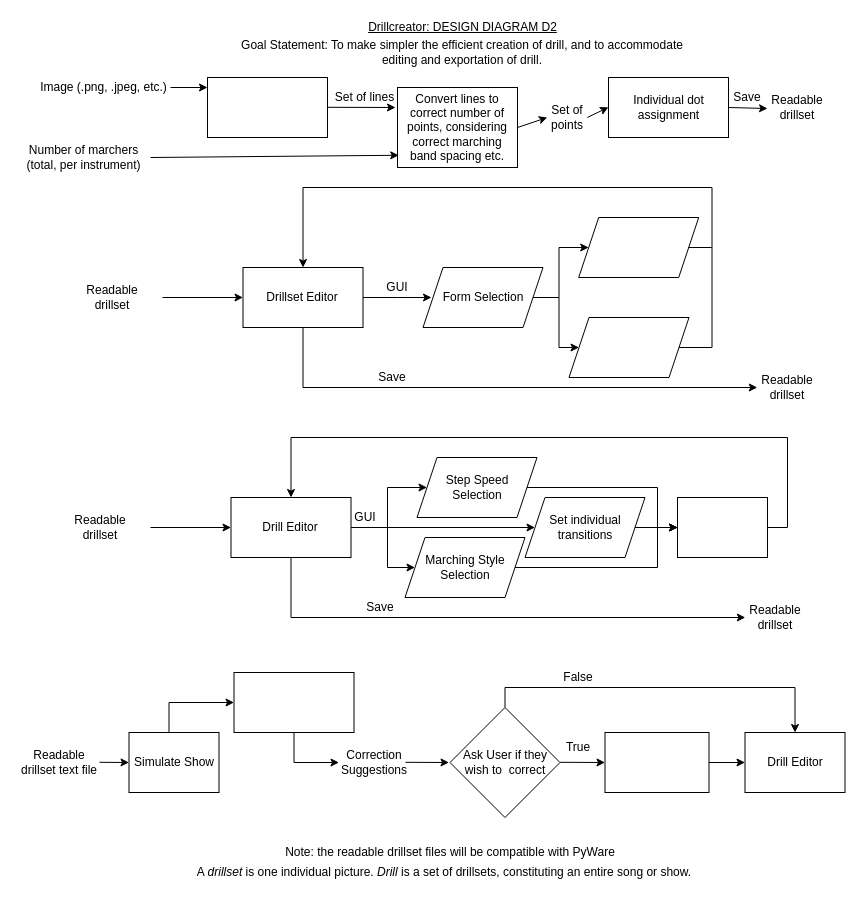
The diagram is 862 pixels wide and 899 high, and some of its shapes have lost their labels. Here are the shapes that lost their labels. From the top down, the box of each, then its label:
(206, 76, 328, 138): Line Detection
(578, 216, 699, 278): Form Movement
(568, 316, 689, 378): Form Resizing
(676, 496, 768, 558): Recalculate Forms/ Transitions
(233, 672, 354, 732): Generate list of collisions, improper step sizes, etc.
(604, 732, 709, 792): Apply Accepted corrections
